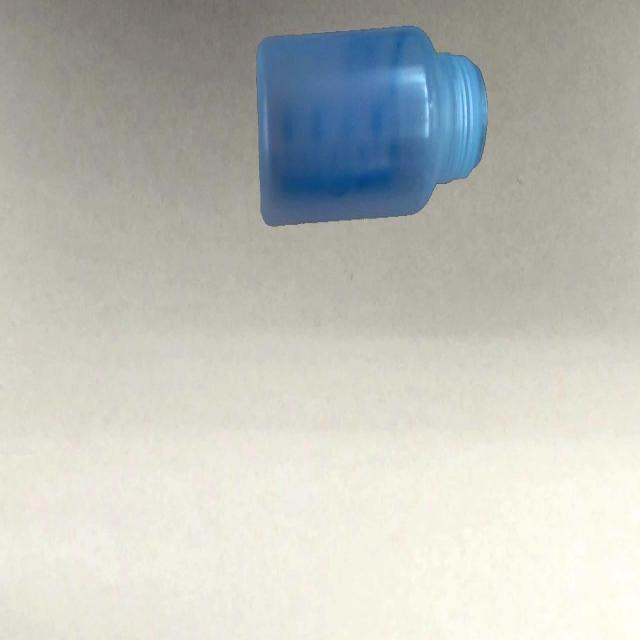bottle: (255, 25, 487, 227)
